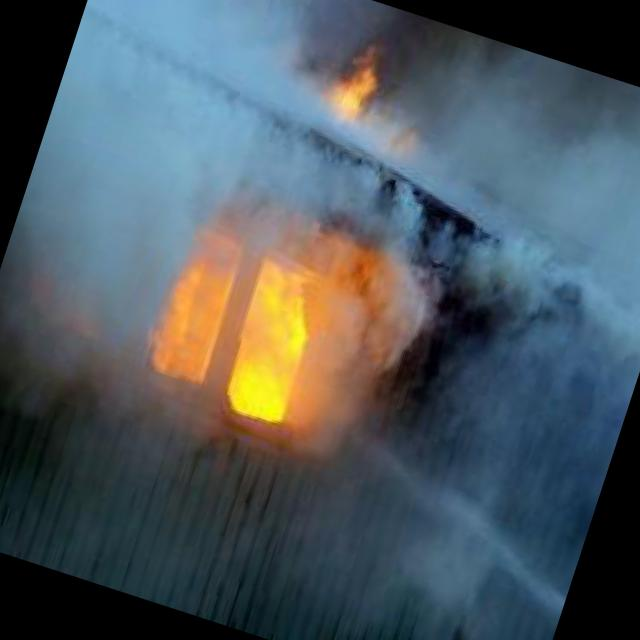fire: (125, 201, 350, 452), (311, 24, 391, 142)
smoke: (0, 0, 289, 447), (309, 135, 640, 448)
